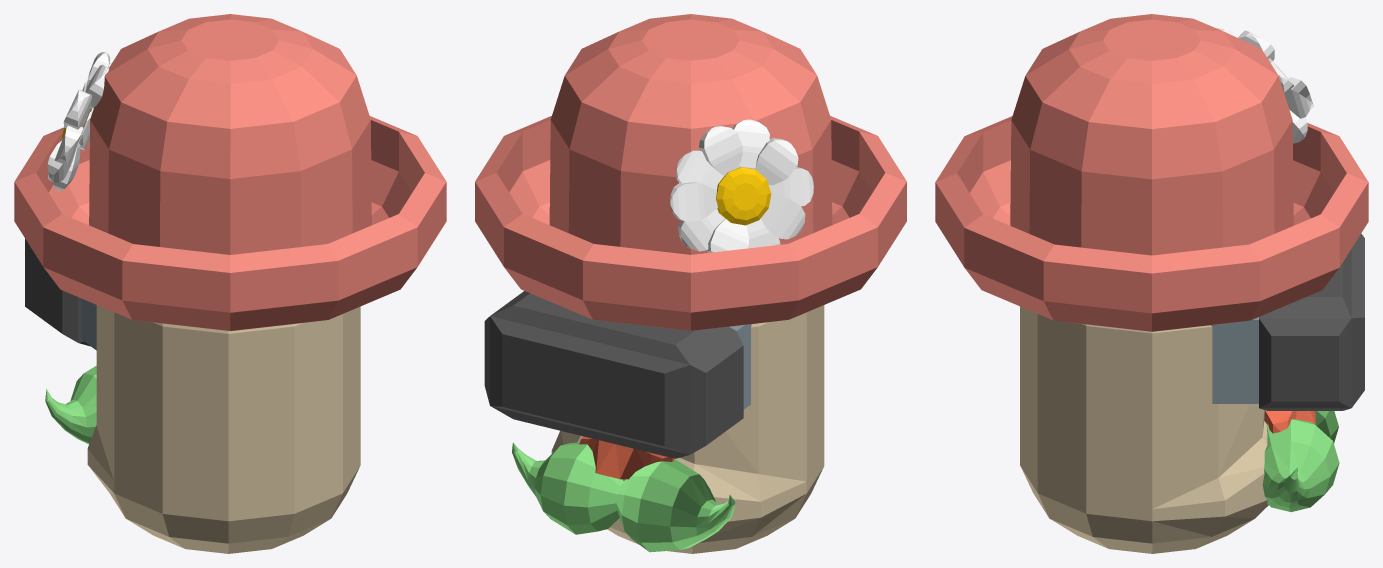
File: player3.fbx
3 views of the same model, side by side, from view 1: azimuth 30°, elevation 25°; view 2: azimuth 150°, elevation 25°; view 3: azimuth 270°, elevation 25° (orthographic).
Parts seen in each view (by area): view 1: mesh411210696.001, mesh2125370239, mesh729800656.001, mesh809829487.001; view 2: mesh411210696.001, mesh729800656.001, mesh2125370239, mesh809829487.001, mesh537915626.001; view 3: mesh411210696.001, mesh2125370239, mesh729800656.001, mesh809829487.001, mesh537915626.001.
Boxes of the visible parts, bbox=[...] form: mesh411210696.001: bbox=[14, 14, 446, 331]; mesh2125370239: bbox=[87, 305, 360, 553]; mesh729800656.001: bbox=[25, 238, 96, 350]; mesh809829487.001: bbox=[45, 365, 96, 444]; mesh411210696.001: bbox=[475, 14, 906, 330]; mesh729800656.001: bbox=[484, 291, 751, 458]; mesh2125370239: bbox=[551, 305, 824, 553]; mesh809829487.001: bbox=[512, 442, 735, 552]; mesh537915626.001: bbox=[579, 436, 673, 479]; mesh411210696.001: bbox=[935, 14, 1368, 331]; mesh2125370239: bbox=[1020, 306, 1268, 553]; mesh729800656.001: bbox=[1210, 233, 1364, 410]; mesh809829487.001: bbox=[1262, 411, 1339, 511]; mesh537915626.001: bbox=[1264, 410, 1315, 433].
Size of the model in its own units: 57 by 71.72 by 57.
